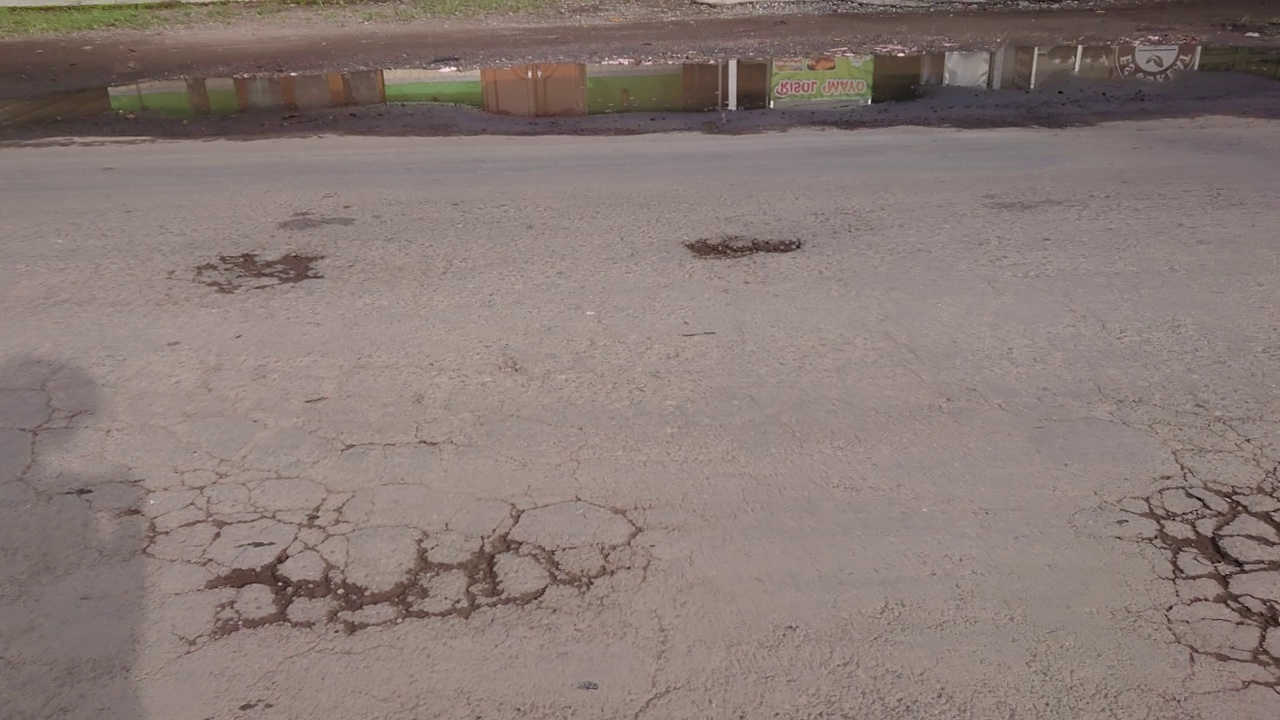Retak: (188, 495, 625, 637), (1141, 476, 1280, 706), (647, 218, 806, 264), (172, 252, 327, 298)
